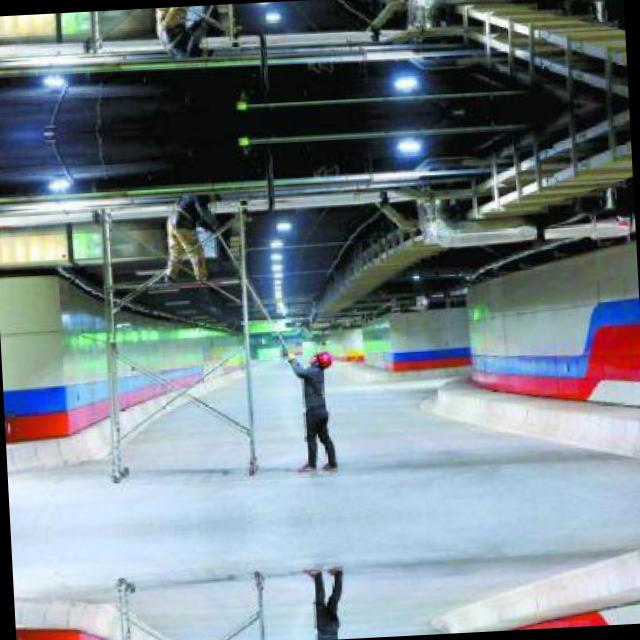helmet: (307, 347, 337, 373)
